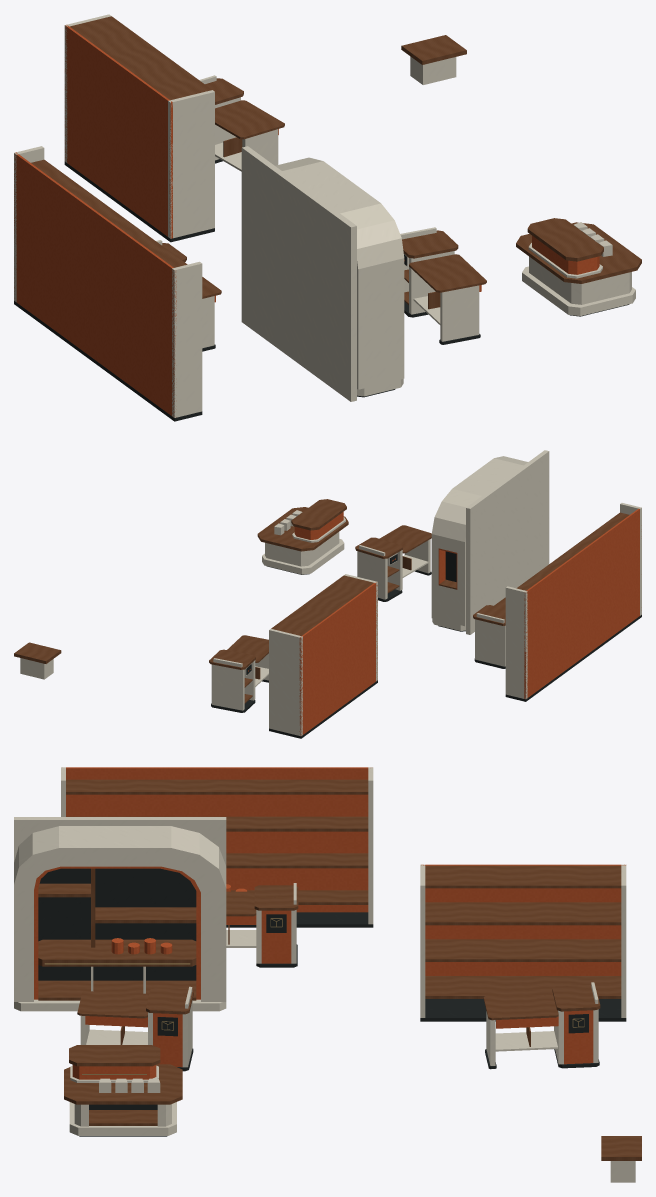
Rendered from SHOP_D09_P100_F184__fitout.glb.
The picture shows the model from 3 angles, top to bottom: view 1: azimuth 30°, elevation 25°; view 2: azimuth 150°, elevation 25°; view 3: azimuth 270°, elevation 25°; orthographic projection. The views are drawn at different scales.
Parts seen in each view (by area): view 1: SHOP_D09_P100_F184__fitout__ivory_enamel, SHOP_D09_P100_F184__fitout__retail_terracotta_enamel, SHOP_D09_P100_F184__fitout__warm_walnut, SHOP_D09_P100_F184__fitout__dark_rubber; view 2: SHOP_D09_P100_F184__fitout__ivory_enamel, SHOP_D09_P100_F184__fitout__retail_terracotta_enamel, SHOP_D09_P100_F184__fitout__warm_walnut, SHOP_D09_P100_F184__fitout__dark_rubber; view 3: SHOP_D09_P100_F184__fitout__warm_walnut, SHOP_D09_P100_F184__fitout__retail_terracotta_enamel, SHOP_D09_P100_F184__fitout__ivory_enamel, SHOP_D09_P100_F184__fitout__dark_rubber.
Part boxes in pixels (bbox=[...]): SHOP_D09_P100_F184__fitout__ivory_enamel: bbox=[14, 14, 635, 417]; SHOP_D09_P100_F184__fitout__retail_terracotta_enamel: bbox=[14, 25, 599, 417]; SHOP_D09_P100_F184__fitout__warm_walnut: bbox=[31, 16, 641, 309]; SHOP_D09_P100_F184__fitout__dark_rubber: bbox=[14, 159, 629, 421]; SHOP_D09_P100_F184__fitout__ivory_enamel: bbox=[20, 450, 641, 736]; SHOP_D09_P100_F184__fitout__retail_terracotta_enamel: bbox=[248, 508, 639, 735]; SHOP_D09_P100_F184__fitout__warm_walnut: bbox=[14, 499, 629, 703]; SHOP_D09_P100_F184__fitout__dark_rubber: bbox=[211, 551, 641, 738]; SHOP_D09_P100_F184__fitout__warm_walnut: bbox=[38, 779, 641, 1160]; SHOP_D09_P100_F184__fitout__retail_terracotta_enamel: bbox=[34, 767, 625, 1079]; SHOP_D09_P100_F184__fitout__ivory_enamel: bbox=[14, 767, 635, 1182]; SHOP_D09_P100_F184__fitout__dark_rubber: bbox=[38, 868, 626, 1136].
Bounding box in the file's own units: 10.25 × 3 × 10.05.
Materials: 5 (5 with a texture image).
